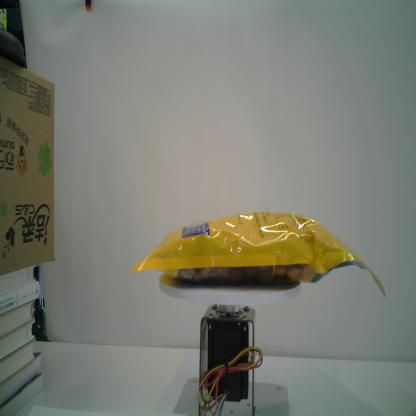Dried Food: (128, 208, 386, 301)
